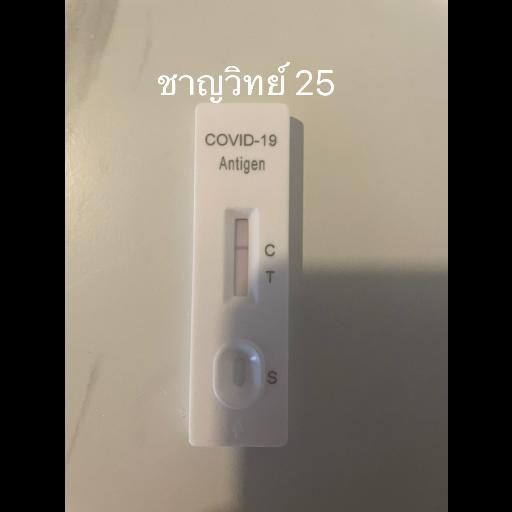Neg: (195, 104, 287, 446)
